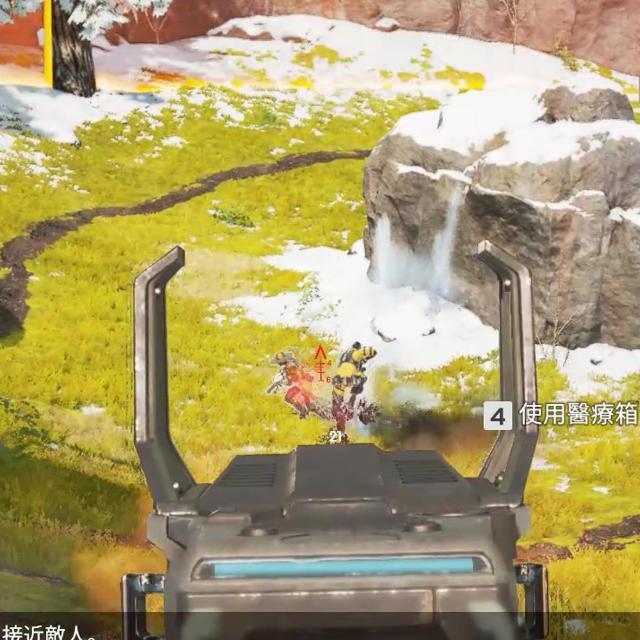avatar: (329, 339, 377, 444), (271, 352, 328, 420)
